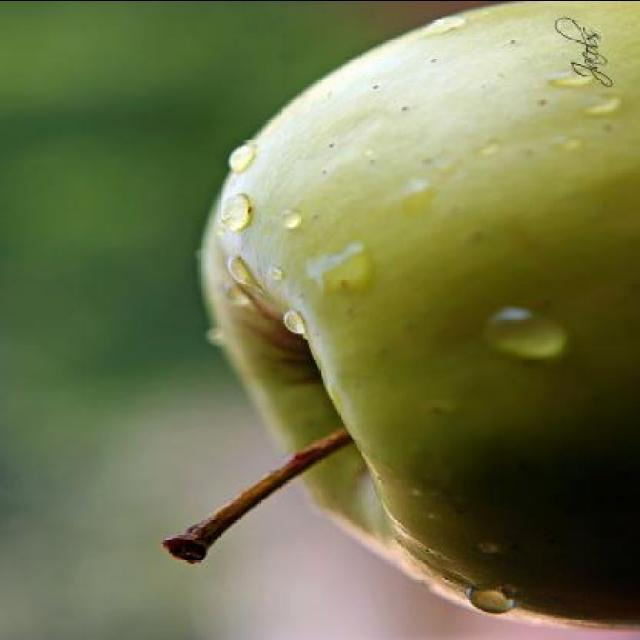Apple pie: (170, 23, 639, 560)
